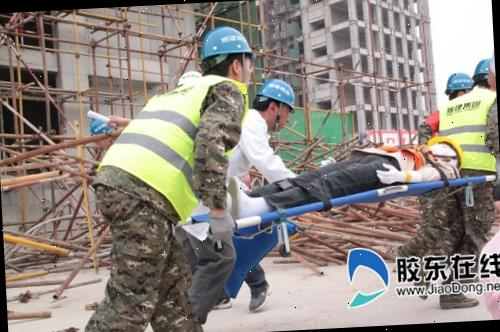helmet: (198, 24, 254, 62), (255, 78, 300, 114), (426, 134, 460, 169), (470, 54, 496, 80), (444, 70, 476, 90)
wear: (120, 80, 241, 190), (437, 89, 500, 177)
